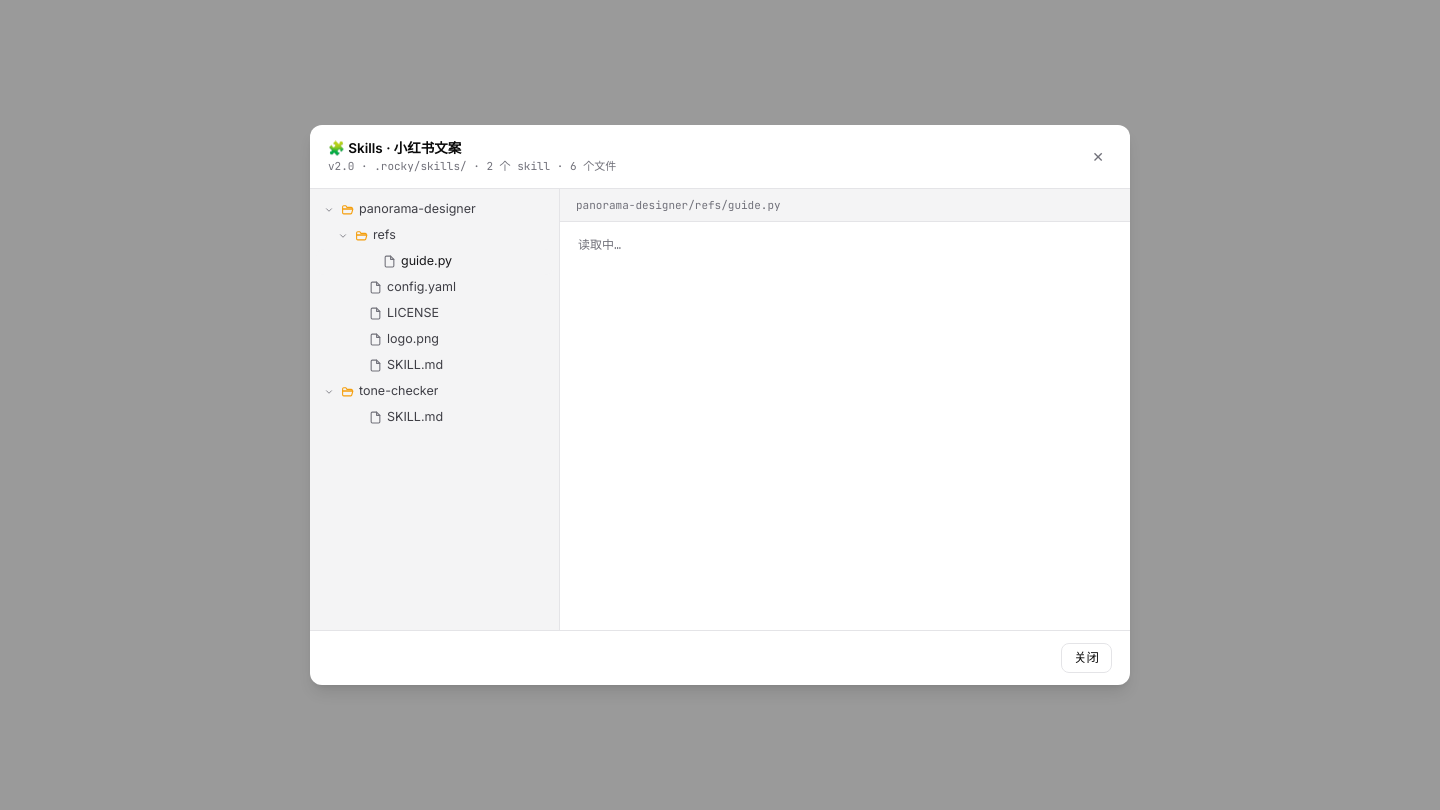
Test case: ComponentSkillBrowserModal — 右侧按类别分渲染 › 选 .py → mono <pre> 原文（不走 markdown）
This screenshot has width=1440, height=810.
Click the button "guide.py": (434, 262) [316, 249, 553, 275]
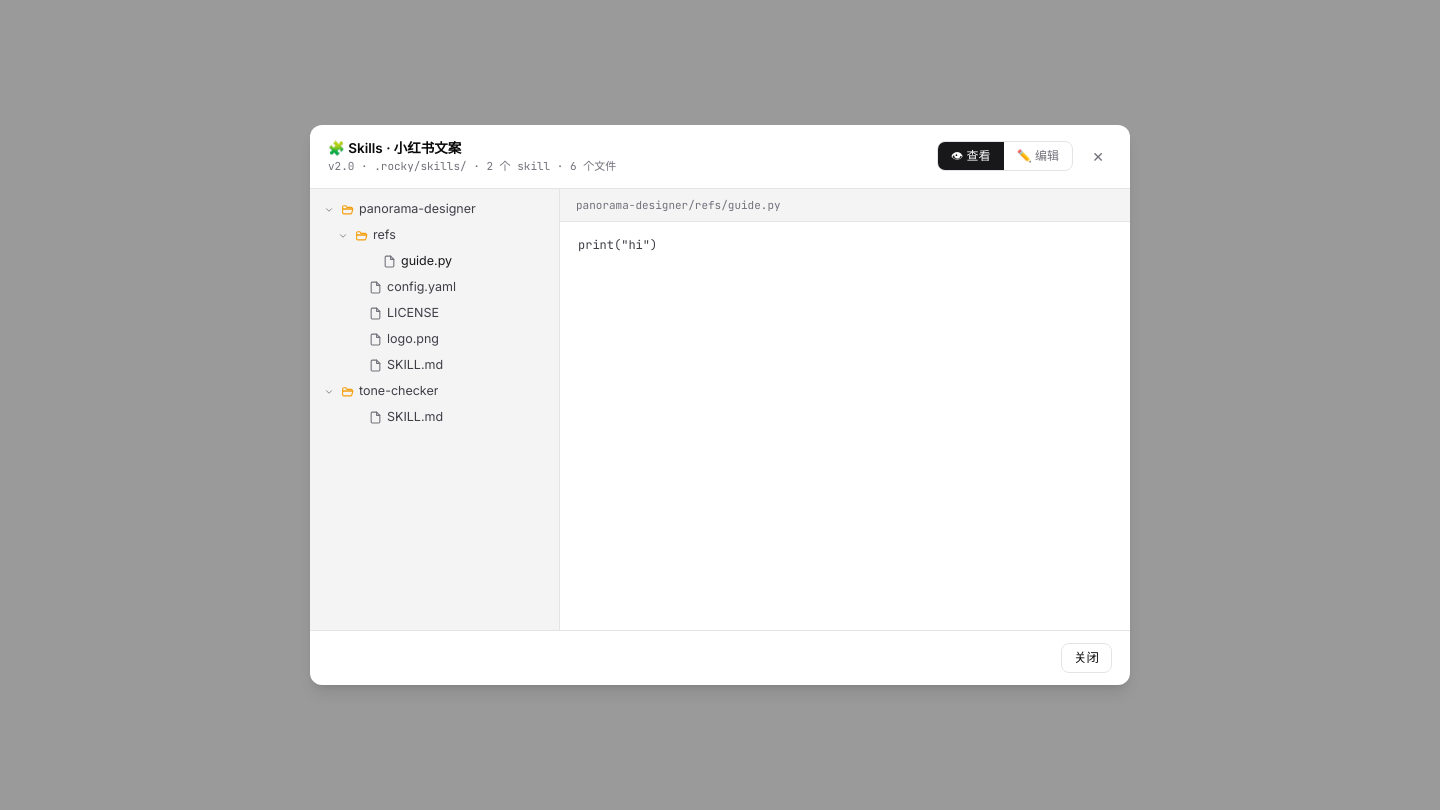
Now the text "print(\"hi\")" is shown, box [560, 222, 1130, 270]
